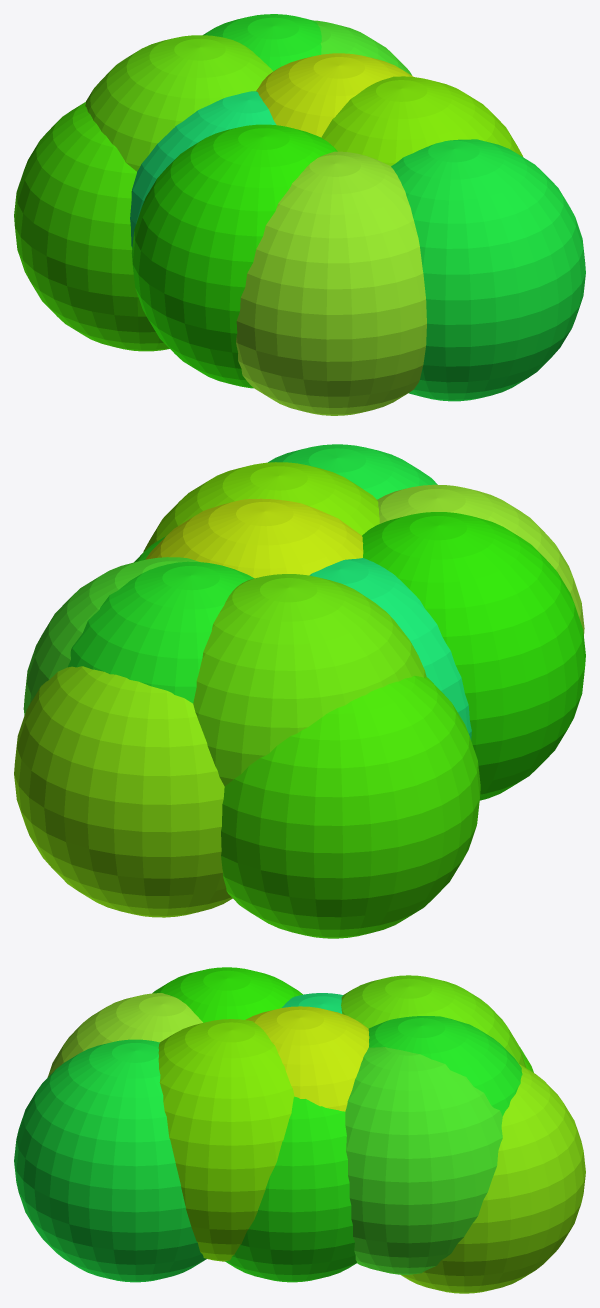
The model's file is bush.fbx.
3 renders of one model, top to bottom at view 1: azimuth 30°, elevation 25°; view 2: azimuth 150°, elevation 25°; view 3: azimuth 270°, elevation 25°, orthographic. The views are drawn at different scales.
Visible parts, largest first — view 1: Kula.002, Kula.003, Kula.008, Kula.009, Kula.007, Kula.005, Kula.011, Kula, Kula.010, Kula.006; view 2: Kula.009, Kula.001, Kula.008, Kula.007, Kula.010, Kula.011, Kula.005, Kula, Kula.002, Kula.006, Kula.003; view 3: Kula.003, Kula.006, Kula.005, Kula.001, Kula.004, Kula.011, Kula.010, Kula.007, Kula.008, Kula.002, Kula.
Part boxes in pixels (x1=…): Kula.002: x1=236, y1=151, x2=426, y2=415; Kula.003: x1=391, y1=139, x2=585, y2=401; Kula.008: x1=131, y1=124, x2=337, y2=388; Kula.009: x1=14, y1=102, x2=169, y2=351; Kula.007: x1=85, y1=35, x2=273, y2=171; Kula.005: x1=321, y1=76, x2=522, y2=166; Kula.011: x1=256, y1=53, x2=413, y2=137; Kula: x1=130, y1=91, x2=276, y2=248; Kula.010: x1=203, y1=14, x2=321, y2=71; Kula.006: x1=313, y1=20, x2=412, y2=75; Kula.009: x1=221, y1=675, x2=480, y2=938; Kula.001: x1=14, y1=666, x2=232, y2=917; Kula.008: x1=362, y1=512, x2=585, y2=800; Kula.007: x1=193, y1=574, x2=426, y2=786; Kula.010: x1=68, y1=561, x2=254, y2=703; Kula.011: x1=145, y1=498, x2=363, y2=578; Kula.005: x1=143, y1=462, x2=379, y2=551; Kula: x1=309, y1=558, x2=471, y2=740; Kula.002: x1=377, y1=484, x2=584, y2=635; Kula.006: x1=23, y1=557, x2=198, y2=715; Kula.003: x1=268, y1=444, x2=437, y2=499; Kula.003: x1=14, y1=1039, x2=206, y2=1282; Kula.006: x1=345, y1=1047, x2=502, y2=1274; Kula.005: x1=158, y1=1019, x2=294, y2=1261; Kula.001: x1=400, y1=1064, x2=585, y2=1293; Kula.004: x1=225, y1=1096, x2=356, y2=1282; Kula.011: x1=245, y1=1006, x2=369, y2=1111; Kula.010: x1=368, y1=1016, x2=522, y2=1116; Kula.007: x1=341, y1=975, x2=525, y2=1067; Kula.008: x1=152, y1=967, x2=302, y2=1022; Kula.002: x1=47, y1=993, x2=202, y2=1077; Kula: x1=282, y1=993, x2=343, y2=1013.
Size of the model in its own units: 333 by 242 by 471.
